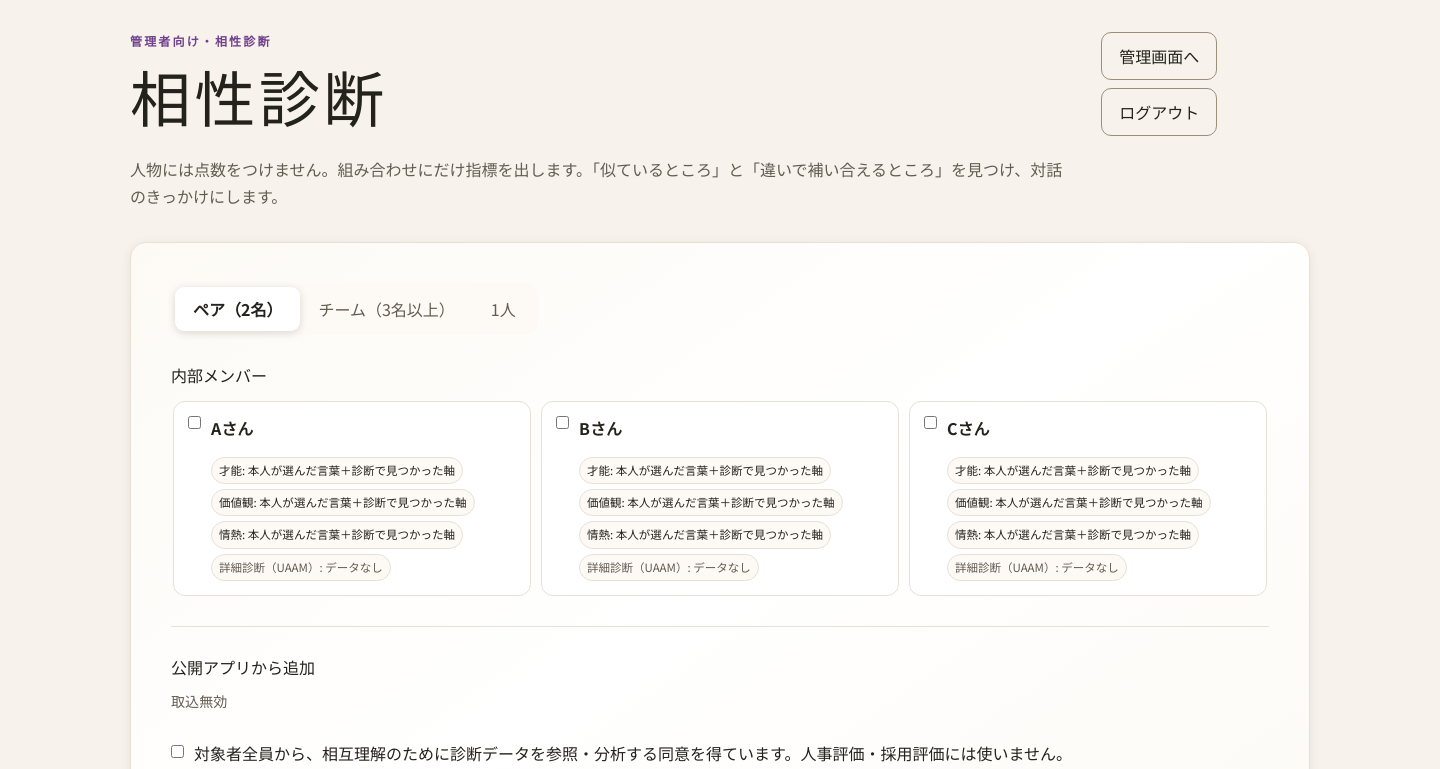
it: CompatScreen › keeps pair analysis disabled until consent is checked
This screenshot has width=1440, height=769.
Check: the text "Aさん" is shown, box [211,416,253,440]
Click the 1st checkbox at (194, 422), box [188,416,201,429]
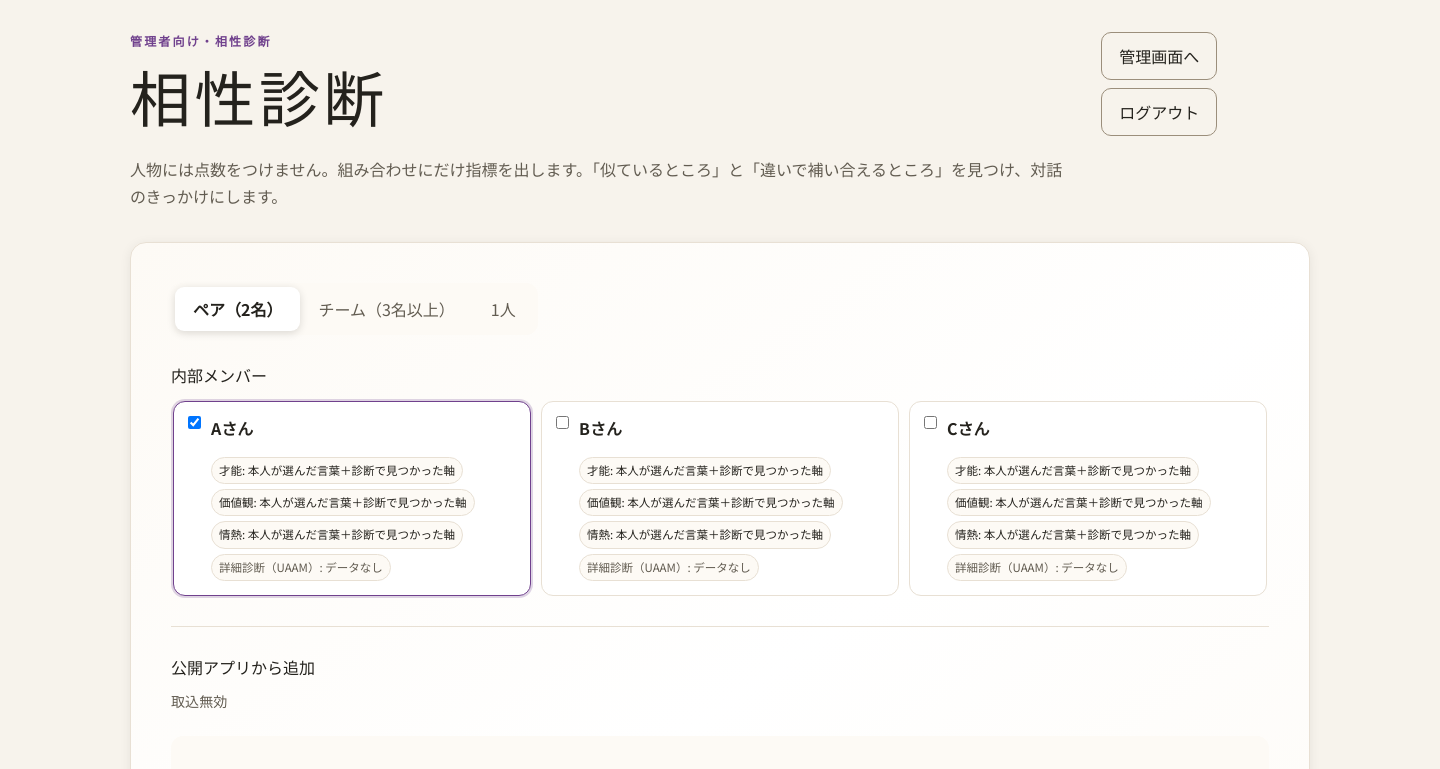
Click the 2nd checkbox at (562, 422), box [556,416,569,429]
(page scrolled)
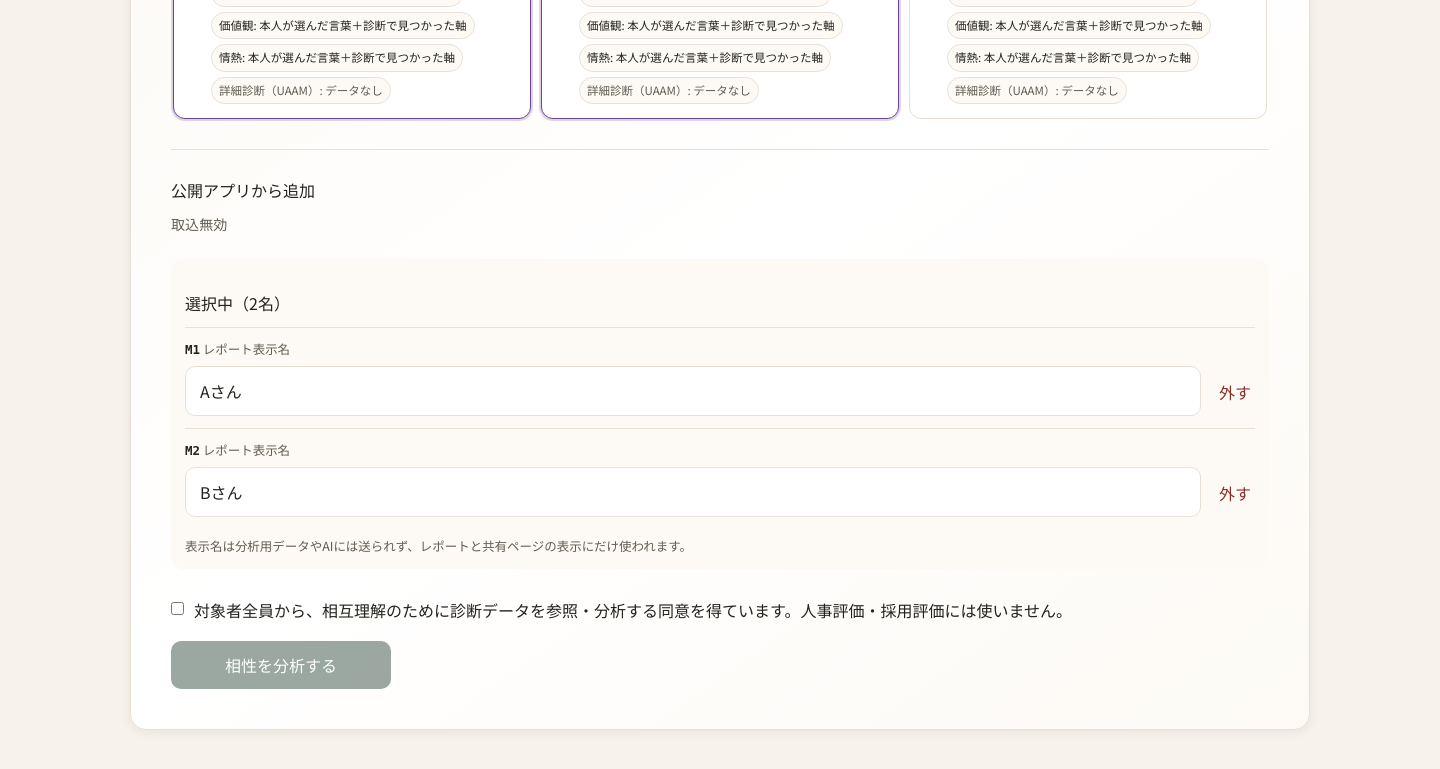
Check: the button "相性を分析する" is disabled, box [171,641,391,689]
Click the checkbox at (178, 608), box [171,602,184,614]
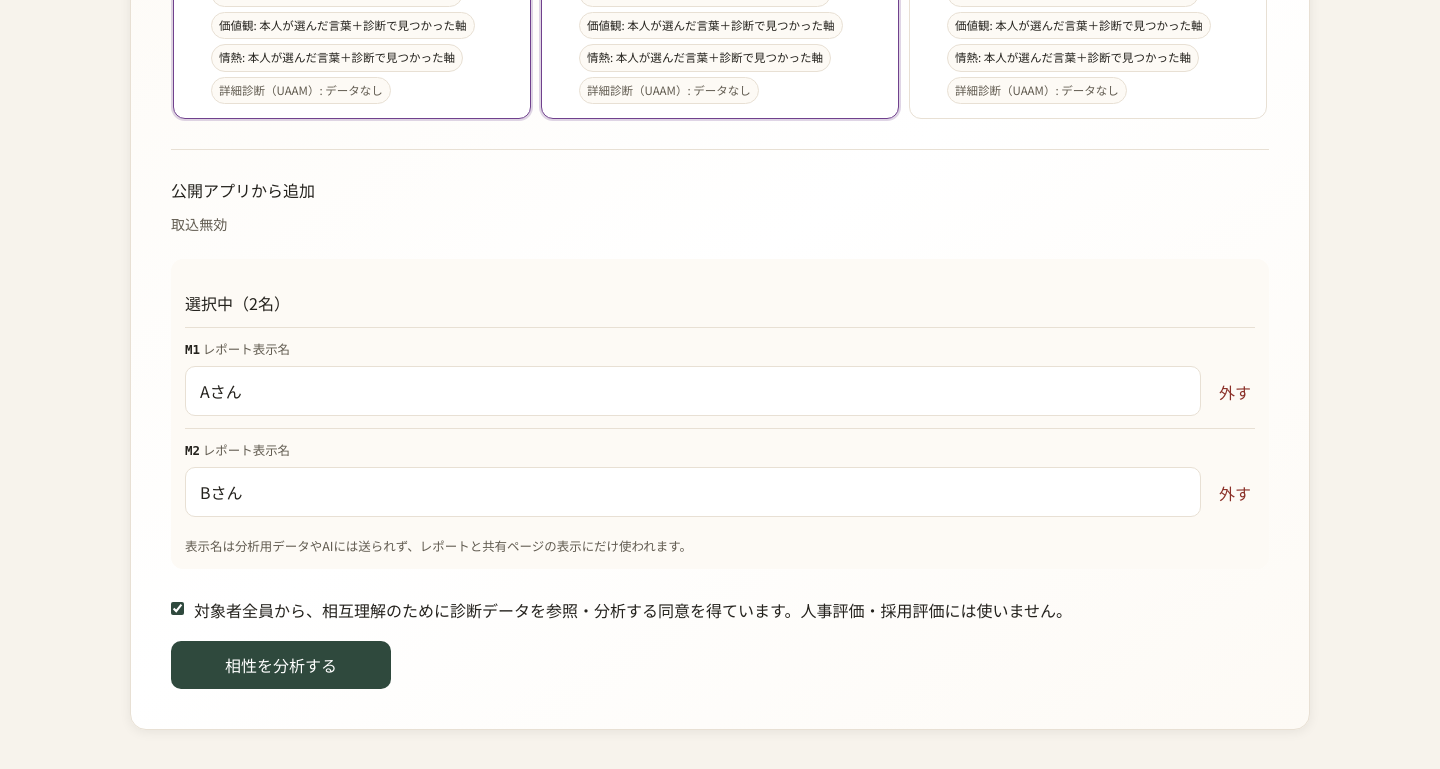
Check: the button "相性を分析する" is enabled, box [171,641,391,689]
